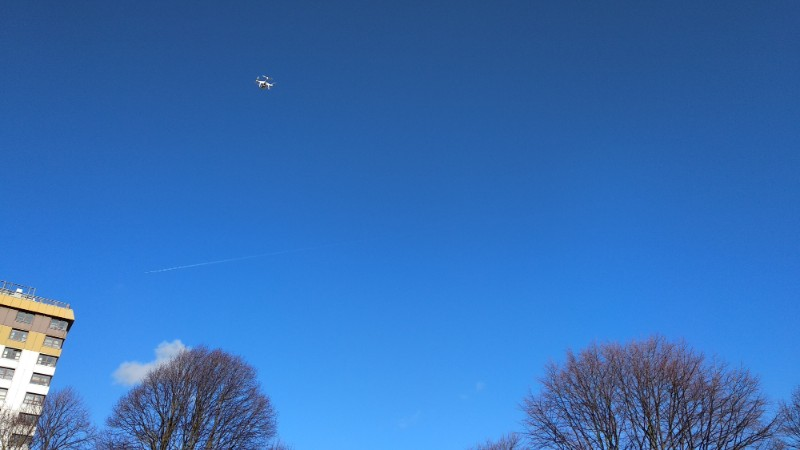drone: (254, 73, 277, 90)
